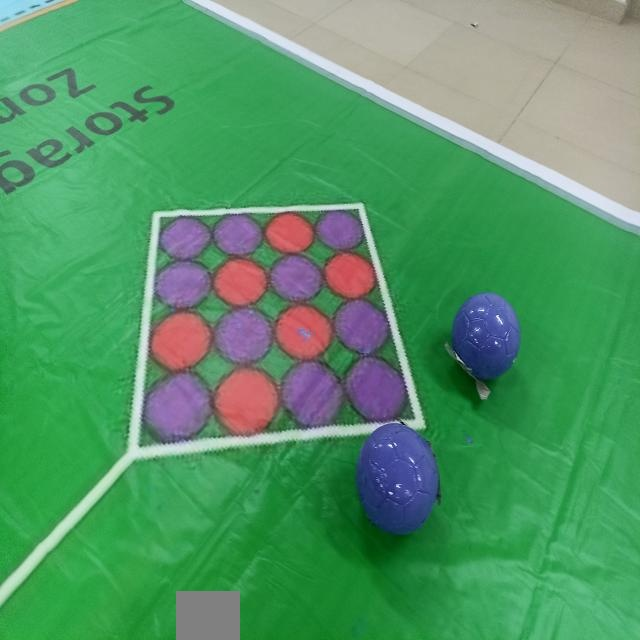purple_ball: (349, 414, 447, 543), (449, 282, 530, 400)
